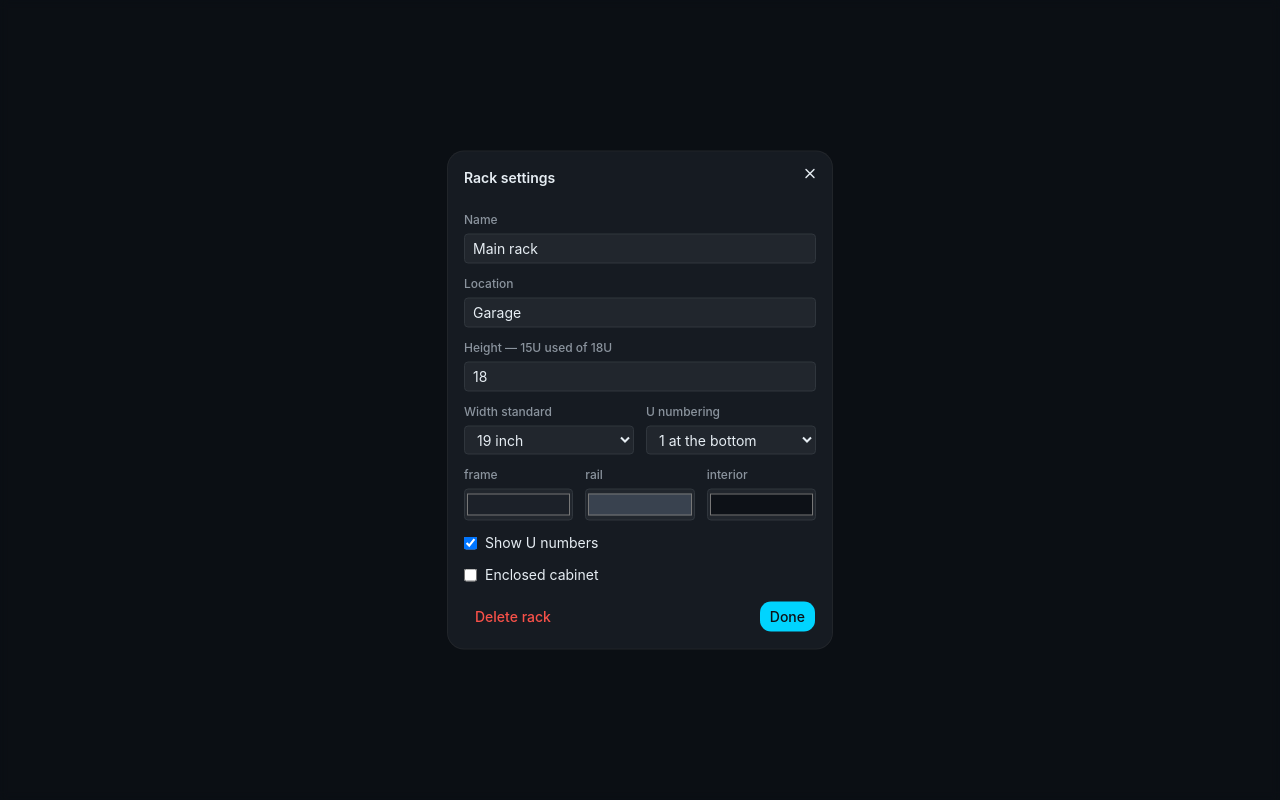
Test: RackSettingsModal › reverts the field when the shrink is refused
Replace the text in the number field named "Rack height" with "1" at point(640, 376), box [464,362,816,392]
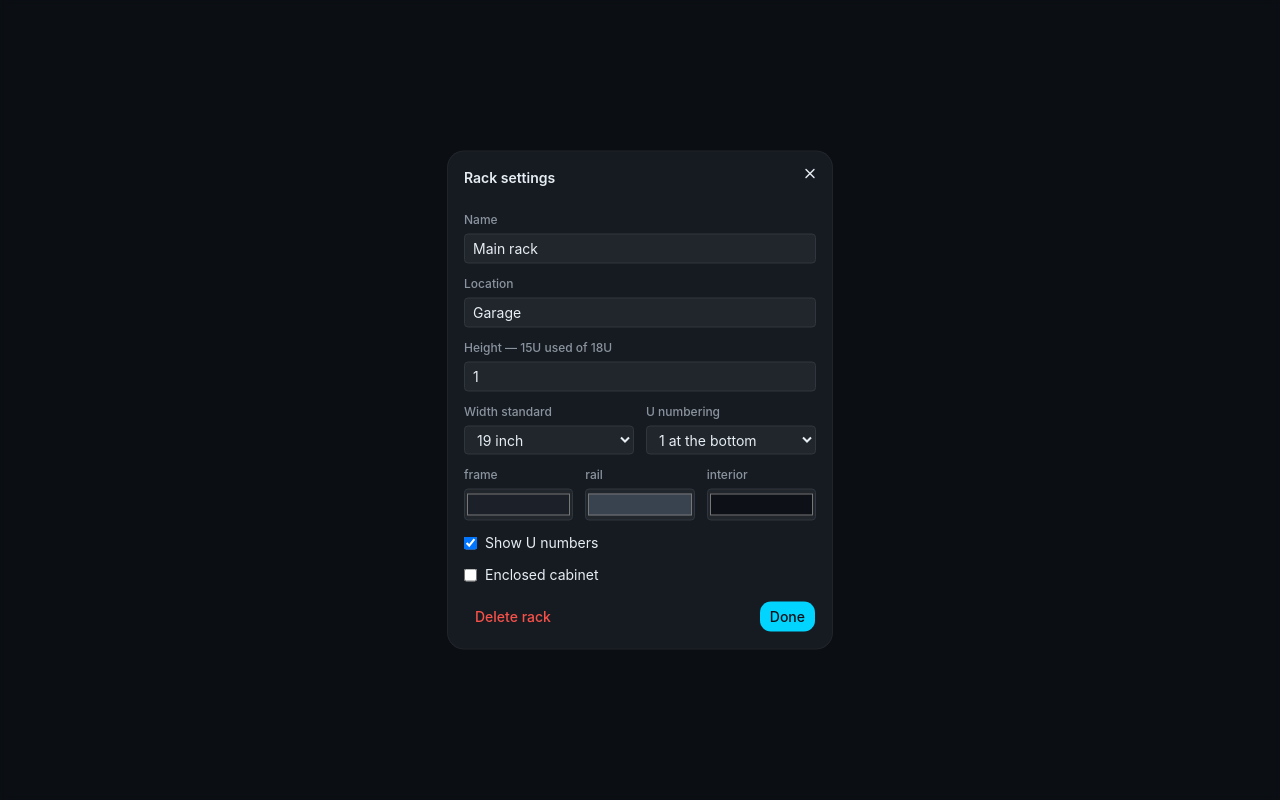
Leave the number field named "Rack height", box [464,362,816,392]
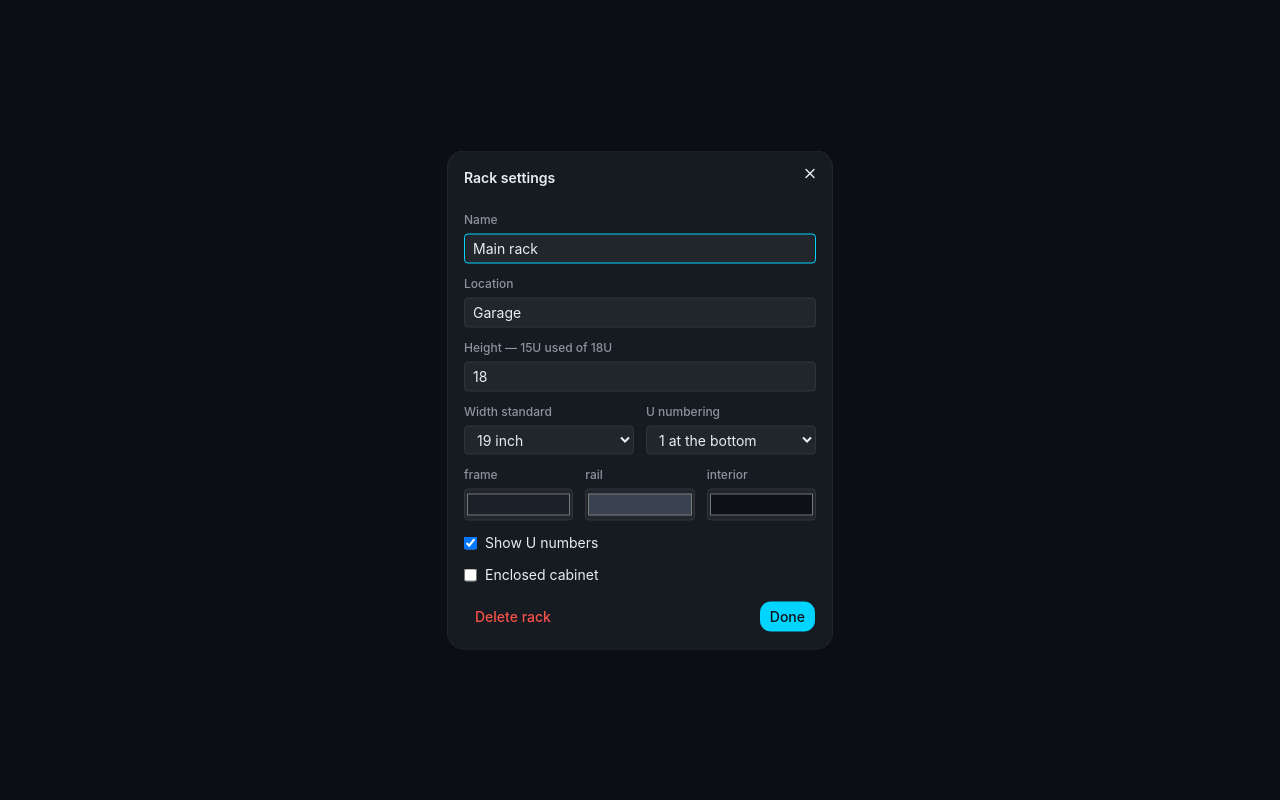
Expected: the number field named "Rack height" holds "18", [464,362,816,392]
